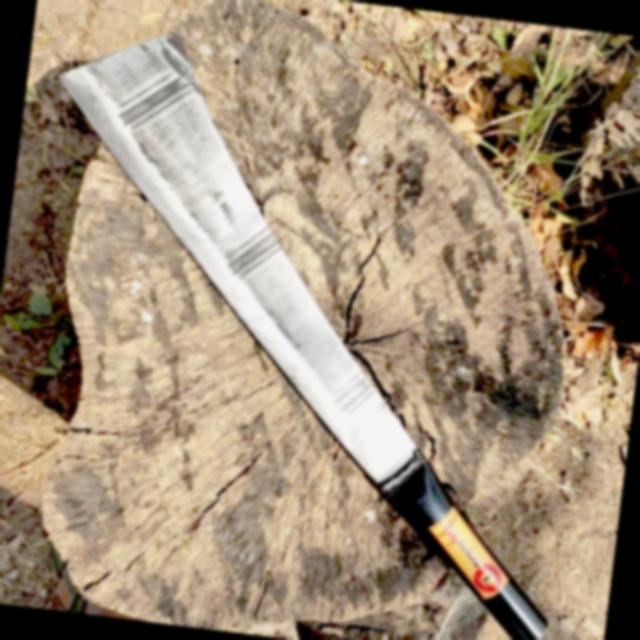eto: (59, 23, 554, 640)
